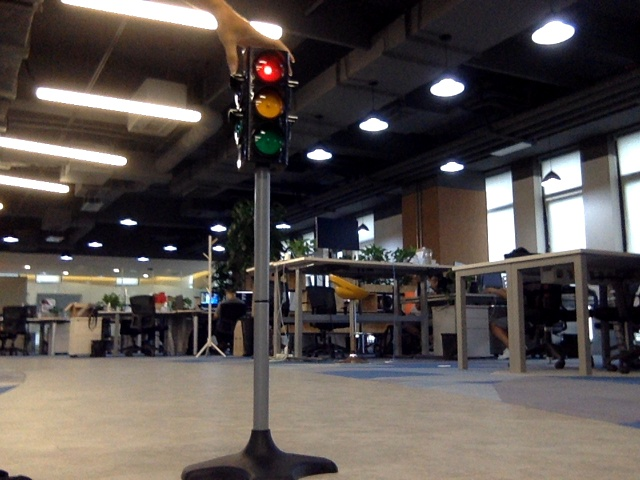red: (249, 54, 285, 156)
